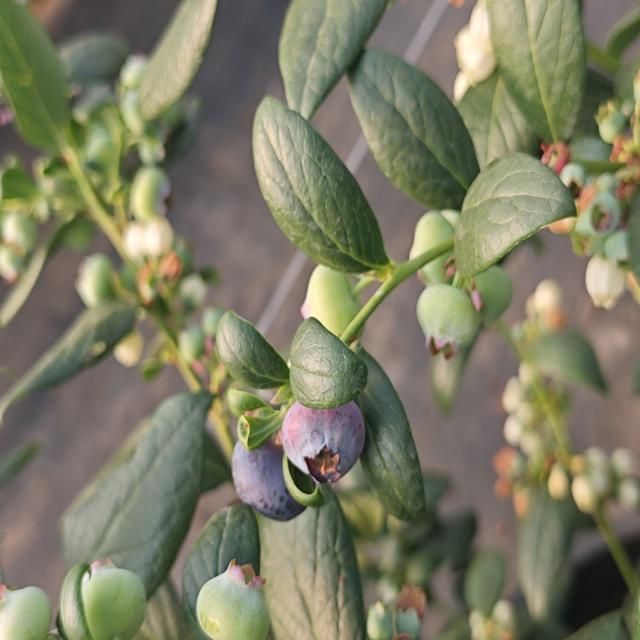ripe: (278, 393, 369, 482), (225, 422, 303, 522)
